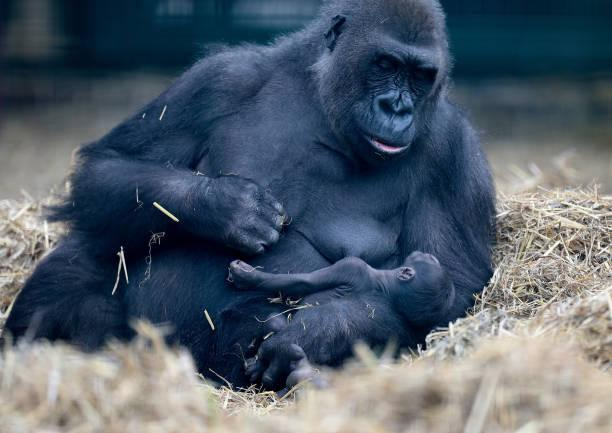gorille_Autres: (42, 1, 502, 347)
